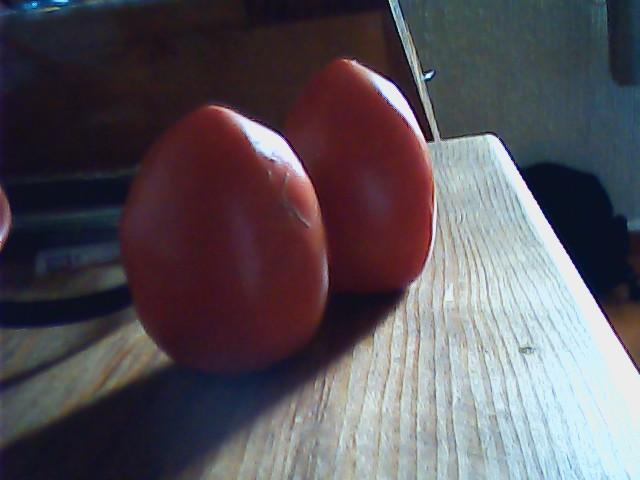maduro: (119, 106, 323, 377), (273, 60, 439, 296)
